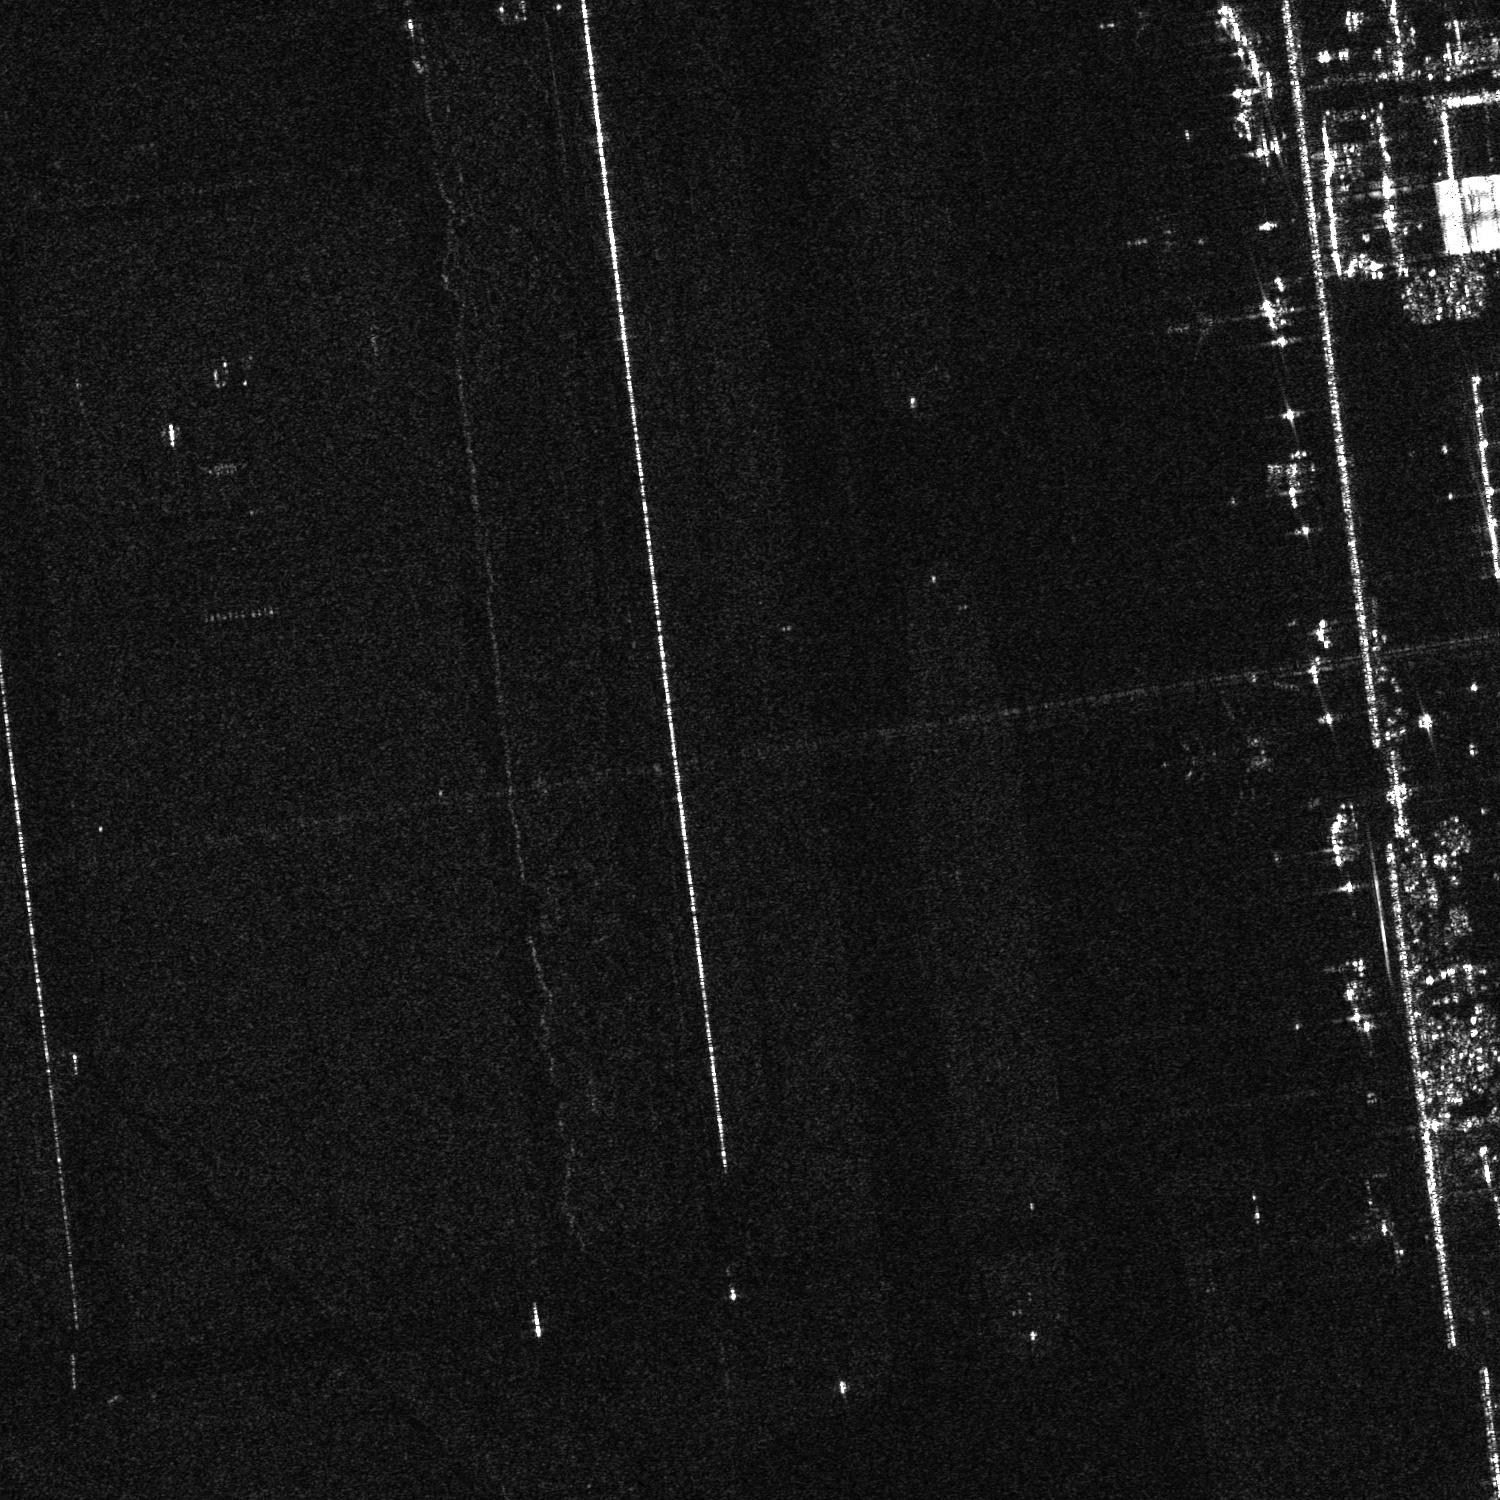A220: (1151, 288, 1220, 365)
